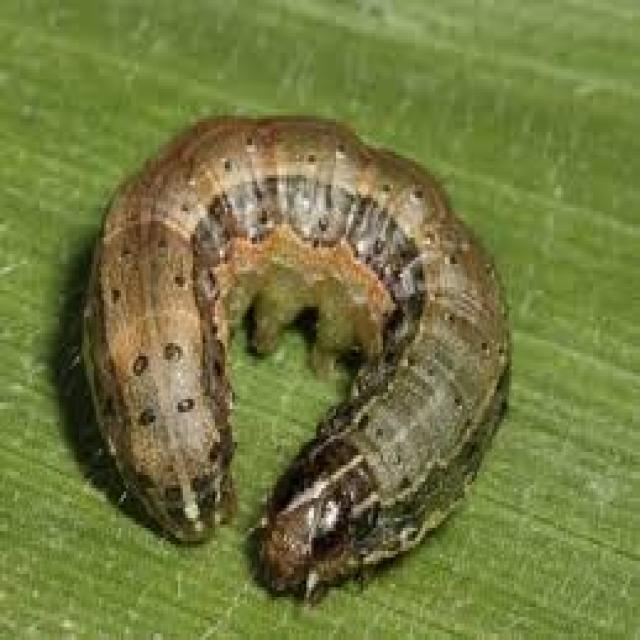Army Worm: (72, 101, 521, 612)
